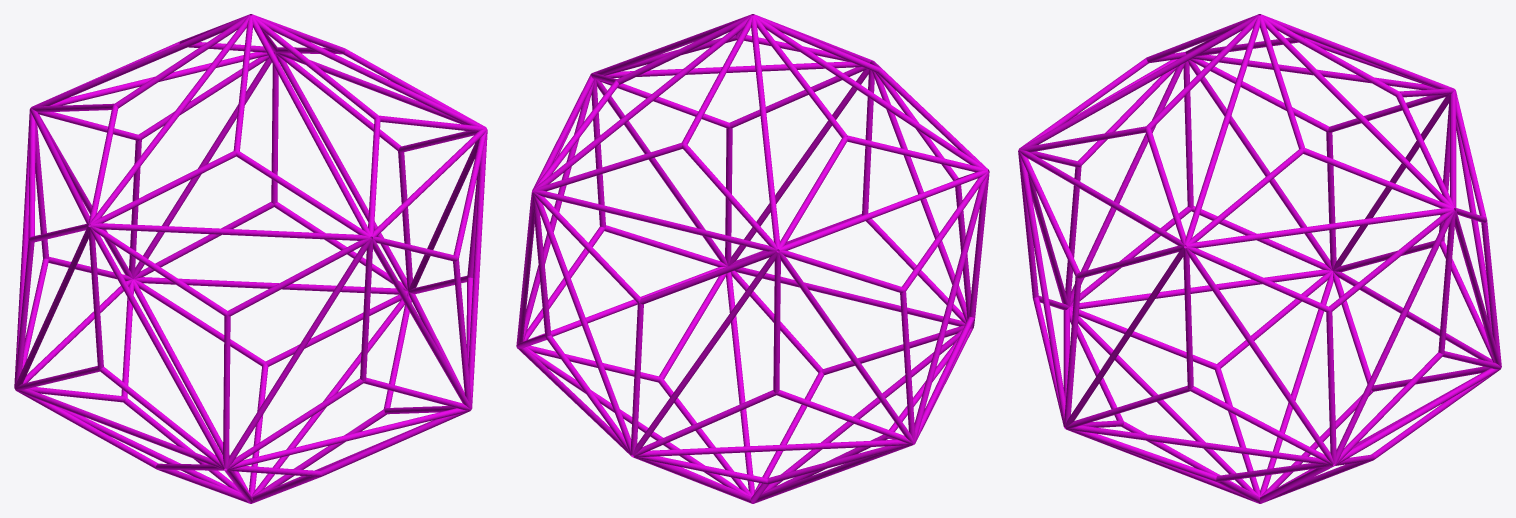
File: TriakisIcosahedron1.glb
3 renders of one model, left to right at view 1: azimuth 30°, elevation 25°; view 2: azimuth 150°, elevation 25°; view 3: azimuth 270°, elevation 25°, orthographic.
Size of the model in its own units: 8.31 by 9.73 by 8.73.
